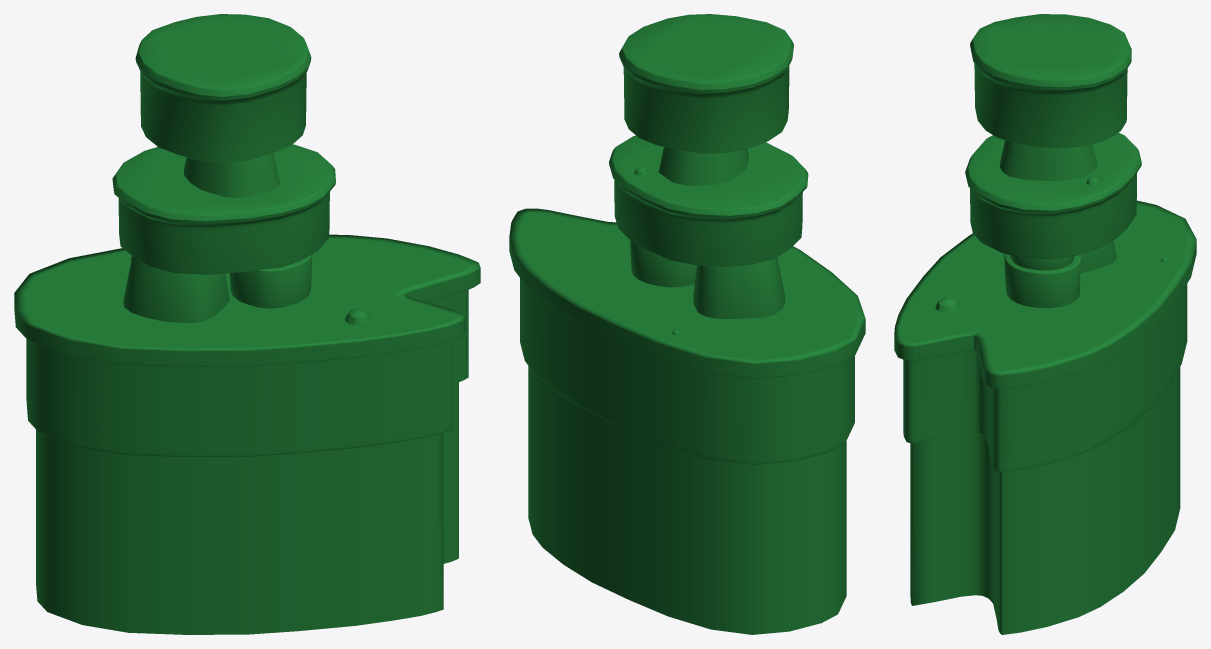
Rendered from Island_Stack_M2.fbx.
3 renders of one model, left to right at view 1: azimuth 30°, elevation 25°; view 2: azimuth 150°, elevation 25°; view 3: azimuth 270°, elevation 25°, orthographic. The views are drawn at different scales.
Parts seen in each view (by area): view 1: Line023, Line019, Line002, Line028, Box041, Line004; view 2: Line023, Line019, Line002, Line028, Box041, Line004; view 3: Line023, Line019, Line002, Box041, Line004, Line028, Line005.
Boxes of the visible parts, bbox=[...] form: Line023: bbox=[14, 234, 480, 634]; Line019: bbox=[135, 14, 311, 163]; Line002: bbox=[112, 144, 335, 274]; Line028: bbox=[123, 256, 229, 322]; Box041: bbox=[184, 153, 280, 197]; Line004: bbox=[229, 254, 312, 308]; Line023: bbox=[509, 208, 865, 634]; Line019: bbox=[619, 14, 793, 153]; Line002: bbox=[609, 135, 808, 266]; Line028: bbox=[693, 257, 785, 318]; Box041: bbox=[658, 147, 748, 185]; Line004: bbox=[630, 240, 696, 287]; Line023: bbox=[894, 200, 1196, 634]; Line019: bbox=[970, 14, 1131, 148]; Line002: bbox=[965, 132, 1141, 259]; Box041: bbox=[999, 140, 1097, 181]; Line004: bbox=[1004, 253, 1080, 308]; Line028: bbox=[1080, 240, 1116, 272]; Line005: bbox=[1010, 255, 1074, 270].
Size of the model in its own units: 4405 by 5638 by 3124.
